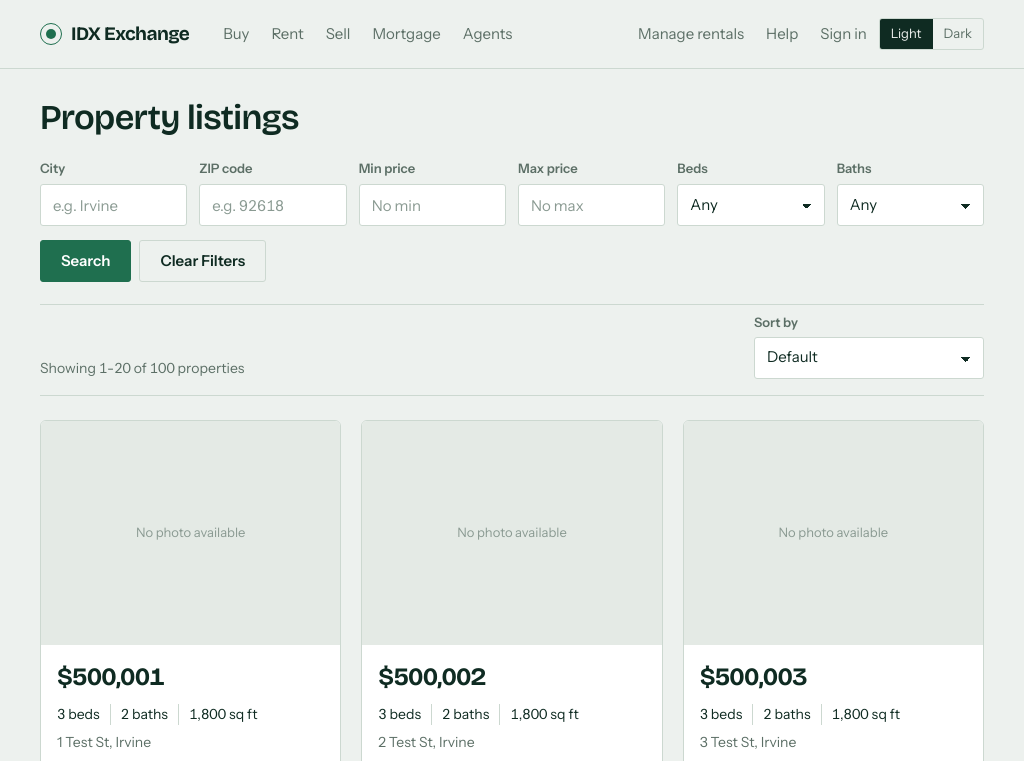
Test: ListingsPage pagination › keeps the active filters when the page changes
Check: the text "Showing 1-20 of 100 properties" is shown, box [40, 358, 244, 379]
Type "Irvine" into the field labelled "City" at {"x": 114, "y": 205}, box [40, 184, 187, 226]
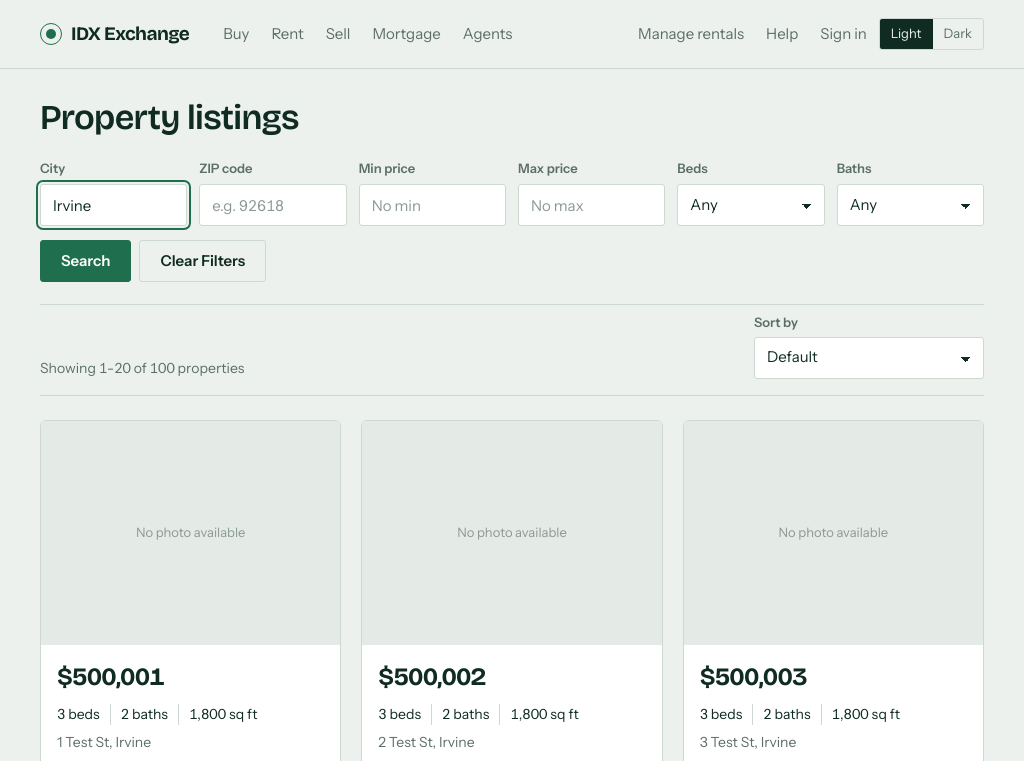
Click the button "Search" at {"x": 86, "y": 261}, box [40, 240, 132, 282]
(page scrolled)
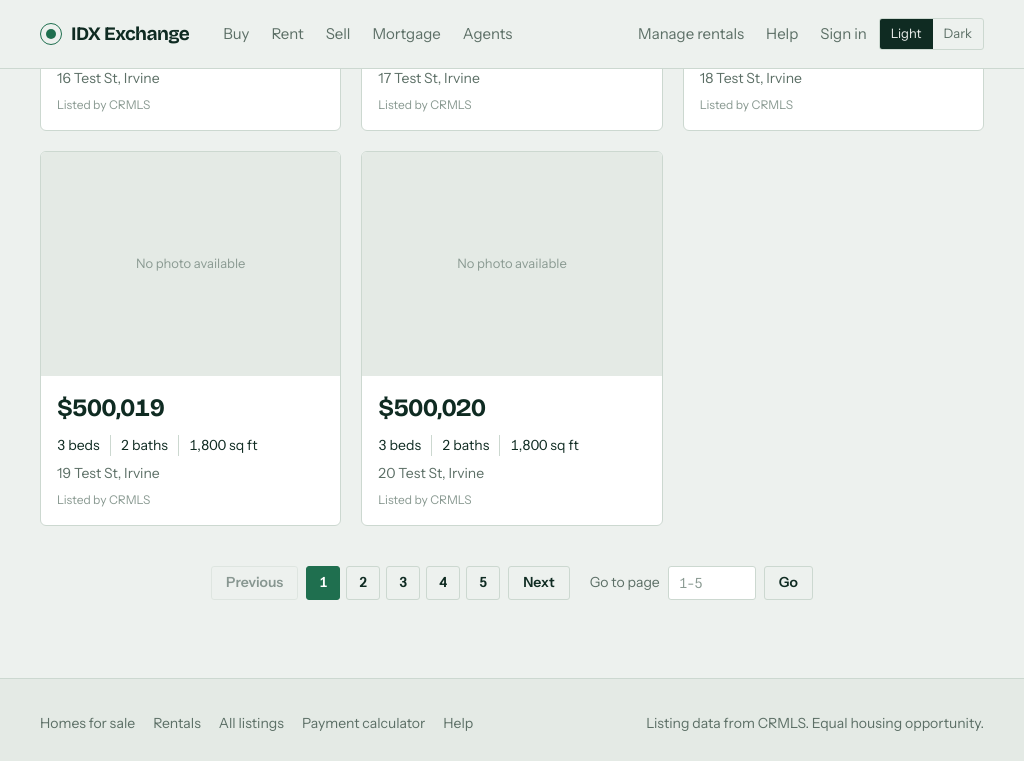
Click the button named "Page 2" at {"x": 363, "y": 583}, box [346, 566, 380, 600]
(page scrolled)
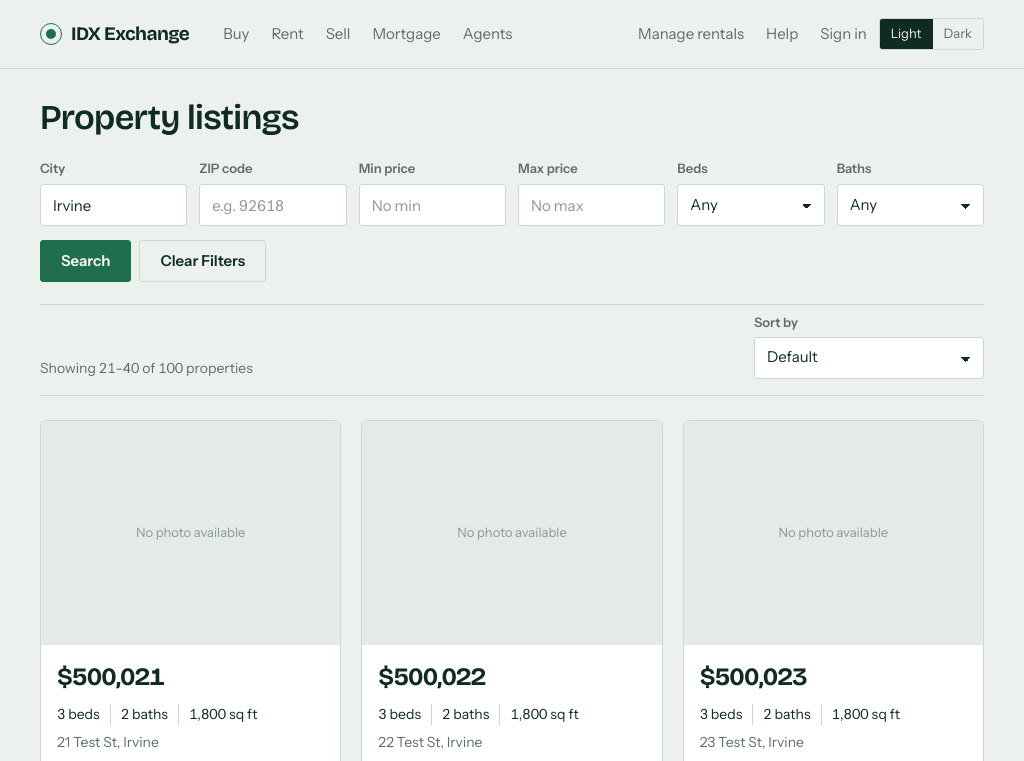
Check: the text "Showing 21-40 of 100 properties" is shown, box [40, 358, 253, 379]
